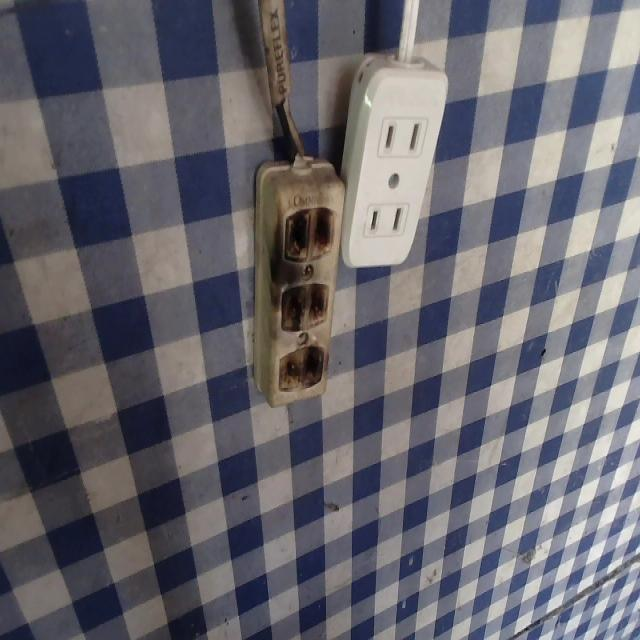-: (272, 341, 327, 408), (285, 205, 339, 268), (277, 277, 332, 335)
